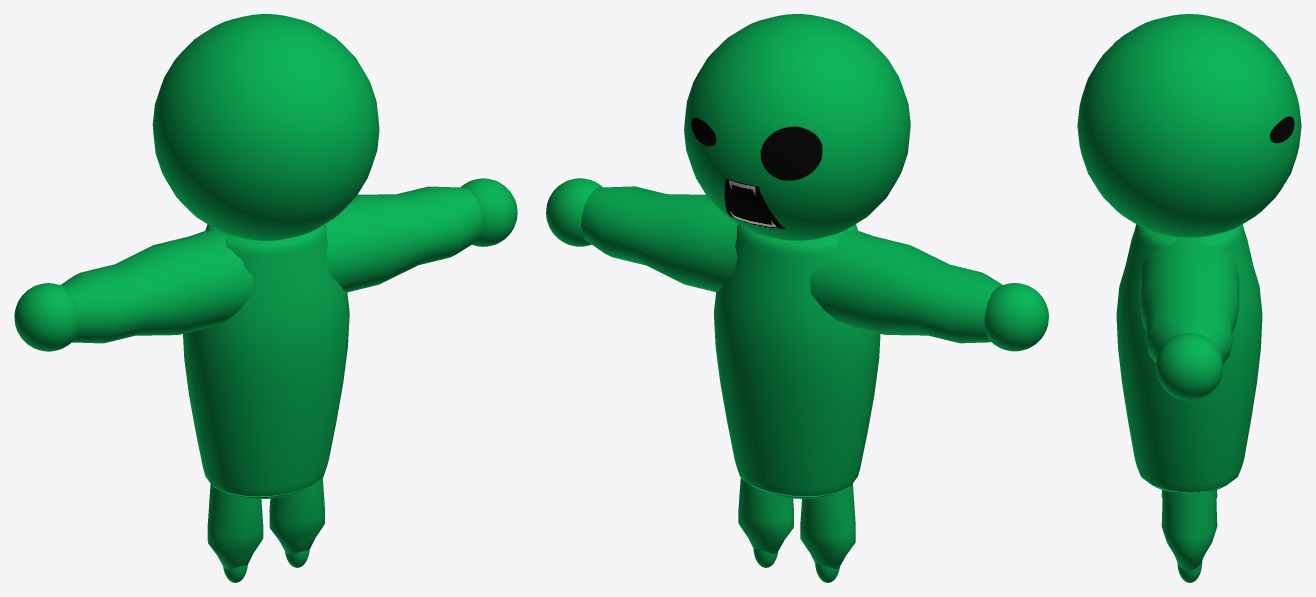
File: ZombieModel.FBX
3 renders of one model, left to right at view 1: azimuth 30°, elevation 25°; view 2: azimuth 150°, elevation 25°; view 3: azimuth 270°, elevation 25°, orthographic.
Visible parts, largest first — view 1: Head, Body, Arm02, Arm01, Foot02, Sphere002, Foot01, Sphere007; view 2: Head, Body, Arm02, Arm01, Sphere002, Foot02, Foot01, Sphere007; view 3: Head, Body, Arm01, Sphere007, Foot01.
Boxes of the visible parts, <box> form: Head: <box>152,14,379,240</box>; Body: <box>183,224,349,496</box>; Arm02: <box>60,230,252,343</box>; Arm01: <box>324,186,482,292</box>; Foot02: <box>207,484,263,569</box>; Sphere002: <box>14,283,78,351</box>; Foot01: <box>269,478,324,554</box>; Sphere007: <box>460,178,517,246</box>; Head: <box>684,14,910,240</box>; Body: <box>714,224,880,496</box>; Arm02: <box>810,230,1002,343</box>; Arm01: <box>581,186,738,291</box>; Sphere002: <box>984,283,1048,351</box>; Foot02: <box>800,483,855,568</box>; Foot01: <box>738,478,793,553</box>; Sphere007: <box>546,178,602,246</box>; Head: <box>1077,14,1301,237</box>; Body: <box>1116,224,1262,493</box>; Arm01: <box>1139,237,1239,364</box>; Sphere007: <box>1155,333,1223,400</box>; Foot01: <box>1161,490,1217,570</box>.
Size of the model in its own units: 226 by 241 by 90.17.
11 materials, 11 textured.
